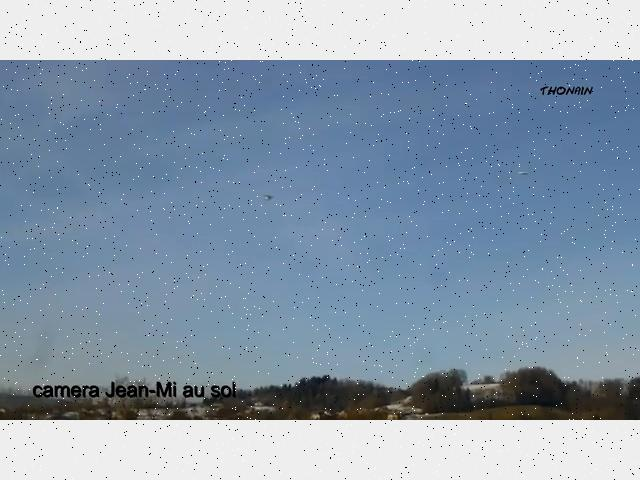Anti-Drone: (260, 190, 276, 208), (514, 167, 534, 181)
